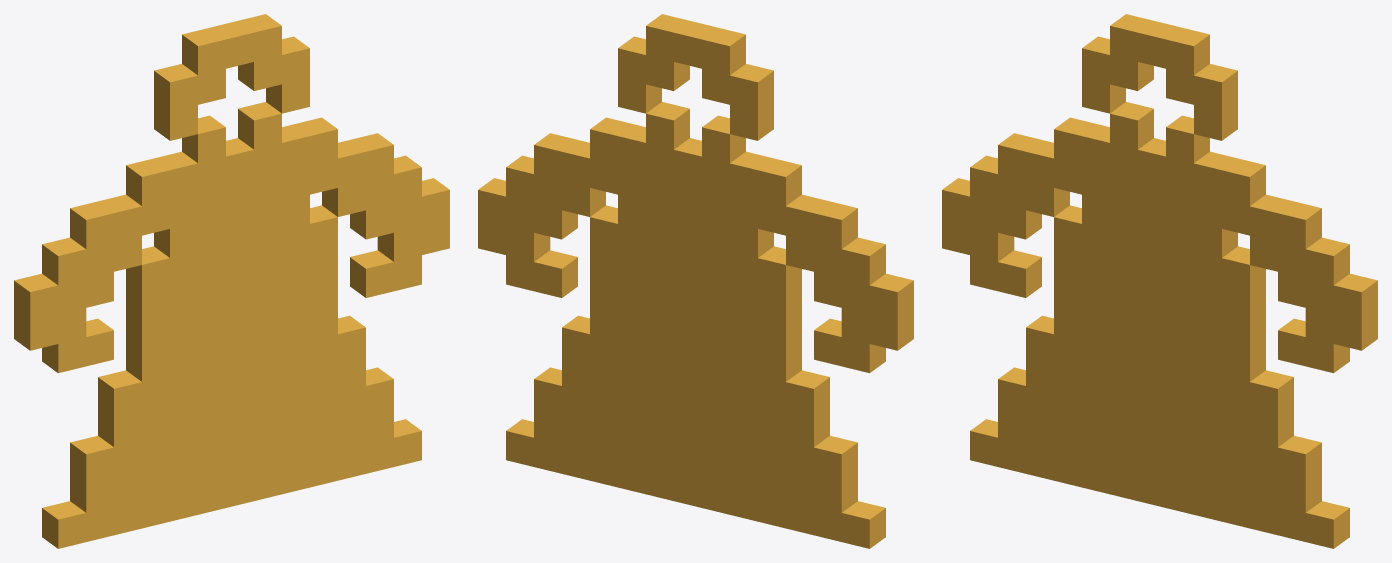
The model's file is Ghoul-Orange.vox.obj.
3 views of the same model, side by side, from view 1: azimuth 30°, elevation 25°; view 2: azimuth 150°, elevation 25°; view 3: azimuth 330°, elevation 25° (orthographic).
Size of the model in its own units: 1.5 by 1.6 by 0.1.
Materials: 1 (1 with a texture image).
